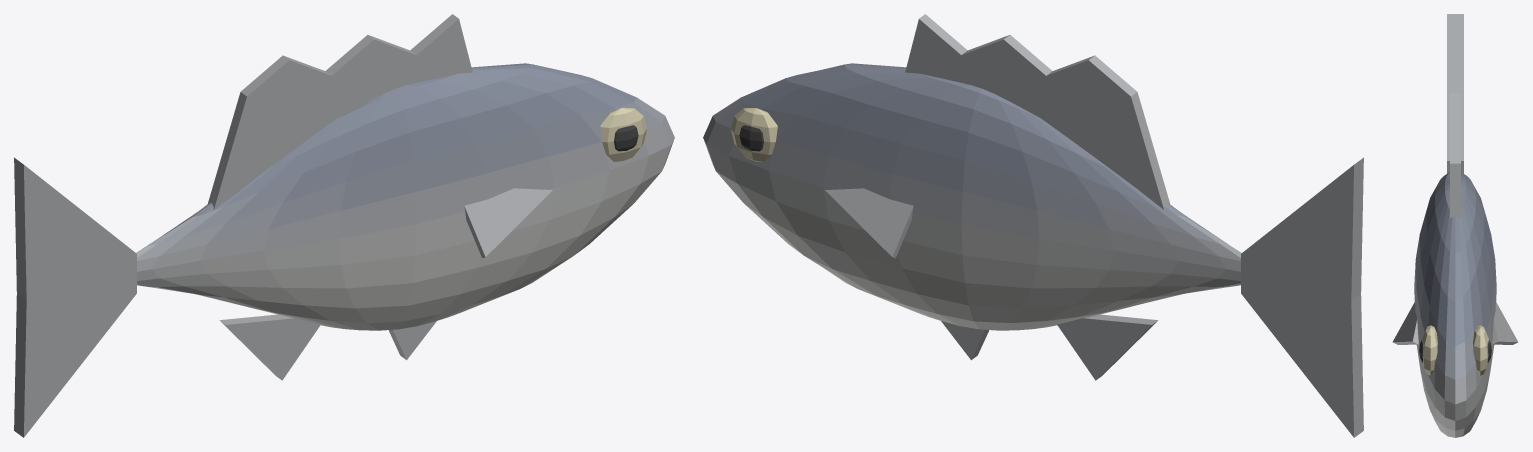
File: FreshwaterDrum.glb
3 views of the same model, side by side, from view 1: azimuth 30°, elevation 25°; view 2: azimuth 150°, elevation 25°; view 3: azimuth 270°, elevation 25° (orthographic). The views are drawn at different scales.
Parts seen in each view (by area): view 1: FreshwaterDrum; view 2: FreshwaterDrum; view 3: FreshwaterDrum.
Part boxes in pixels (box(x1,y1,x2,y2)): FreshwaterDrum: box(14, 14, 674, 437); FreshwaterDrum: box(703, 14, 1363, 437); FreshwaterDrum: box(1392, 14, 1518, 437).
Size of the model in its own units: 4.11 by 1.97 by 0.7998.
